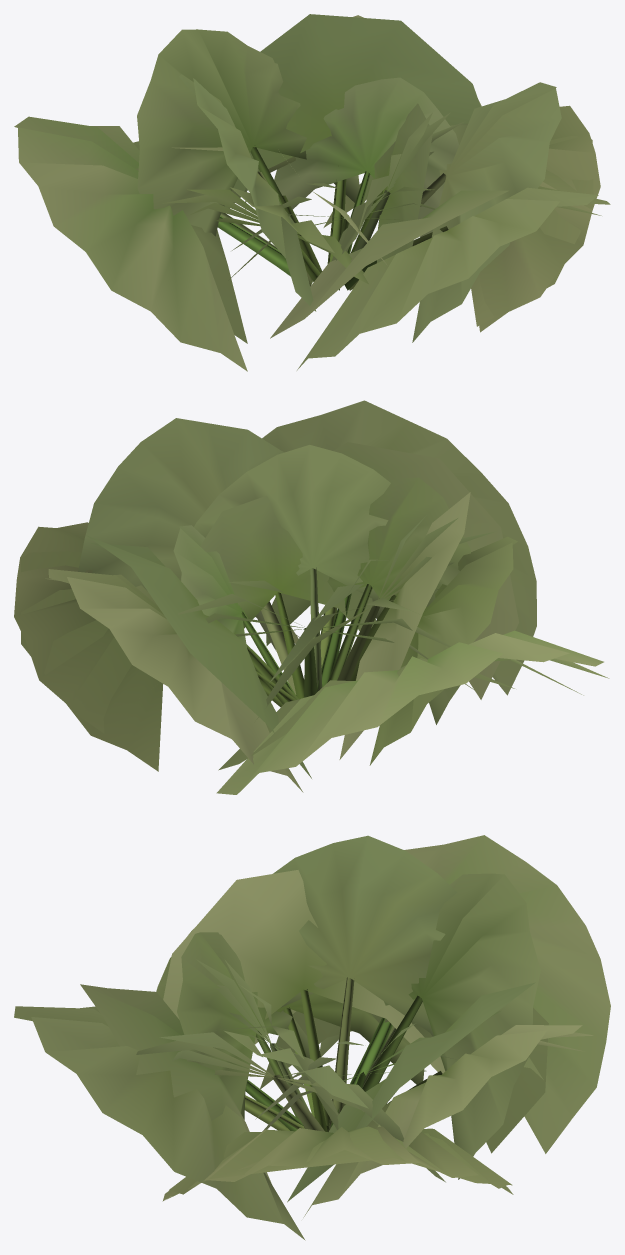
Rendered from palmetto.glb.
The picture shows the model from 3 angles, top to bottom: view 1: azimuth 30°, elevation 25°; view 2: azimuth 150°, elevation 25°; view 3: azimuth 270°, elevation 25°; orthographic projection. The views are drawn at different scales.
Visible parts, largest first — view 1: palmetto, palmetto-lo; view 2: palmetto, palmetto-lo; view 3: palmetto, palmetto-lo.
Part boxes in pixels (box(x1,y1,x2,y2)): palmetto: box(14, 15, 610, 371); palmetto-lo: box(135, 14, 593, 343); palmetto: box(14, 400, 609, 794); palmetto-lo: box(21, 442, 518, 778); palmetto: box(14, 835, 610, 1240); palmetto-lo: box(80, 870, 548, 1202).
Size of the model in its own units: 3.86 by 1.72 by 3.57.
